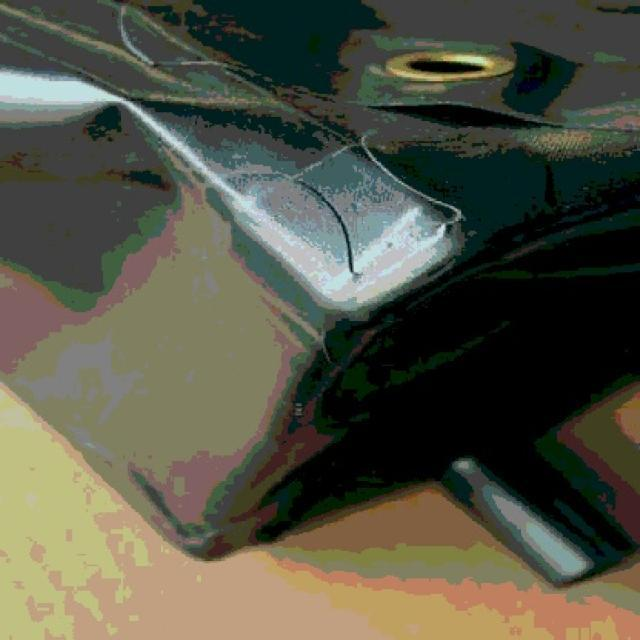crack: (313, 155, 373, 283)
